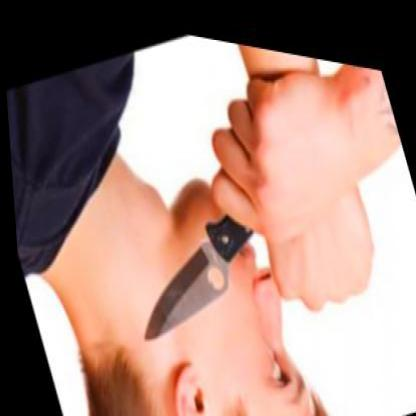knife: (85, 81, 320, 372)
